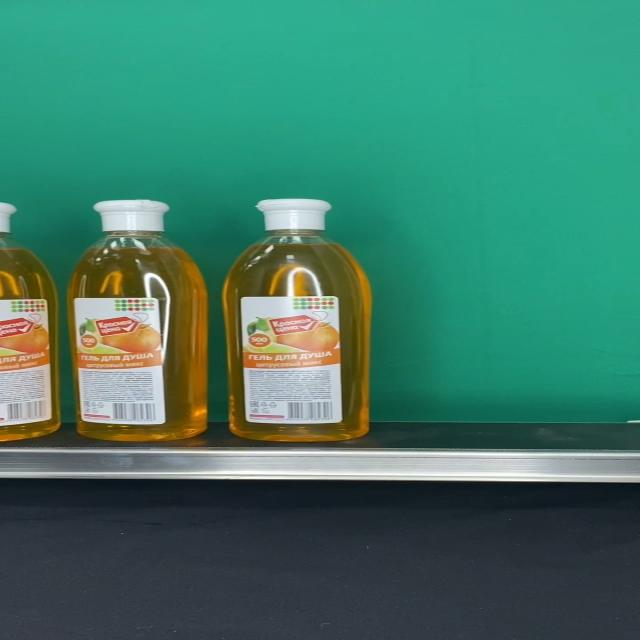Bottle: (223, 198, 373, 442), (69, 200, 208, 441)
Cap: (255, 198, 332, 230), (94, 200, 170, 232)
